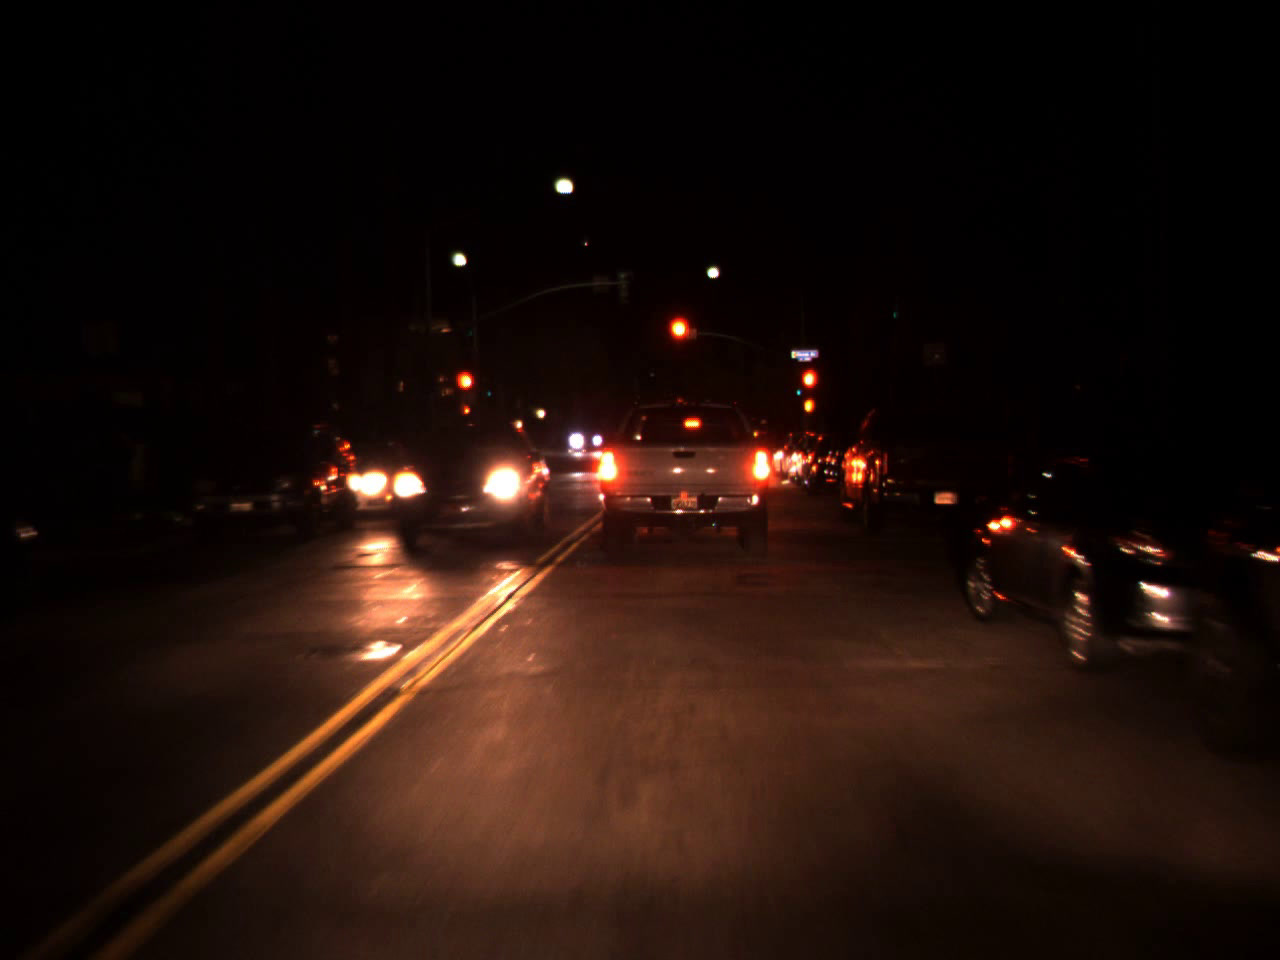stop: (454, 367, 476, 415), (798, 365, 819, 413), (668, 317, 689, 357)
